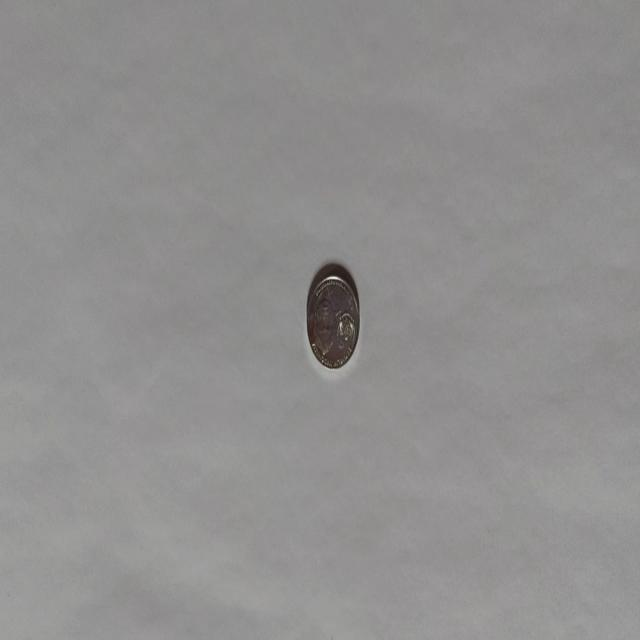dua ratus rupiah: (306, 268, 360, 370)
